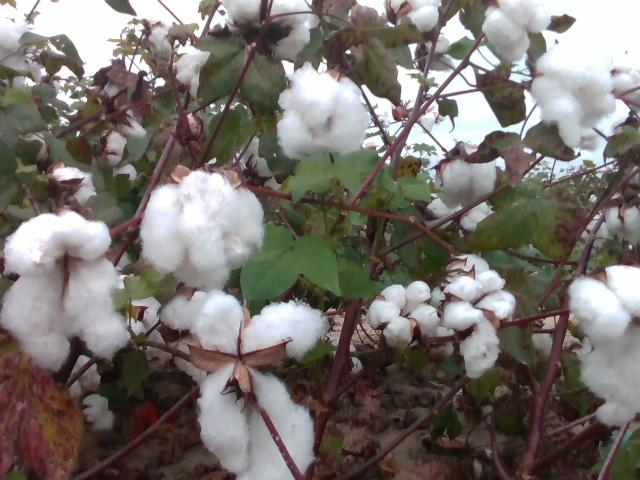cotton_ready: (187, 291, 325, 480), (1, 210, 128, 372), (140, 168, 267, 289), (570, 266, 640, 425), (532, 44, 617, 149), (439, 270, 515, 380), (277, 61, 367, 153), (221, 0, 312, 61), (371, 280, 440, 345), (481, 0, 551, 61), (434, 144, 499, 208), (0, 3, 44, 89), (175, 46, 211, 99), (440, 254, 491, 290)
